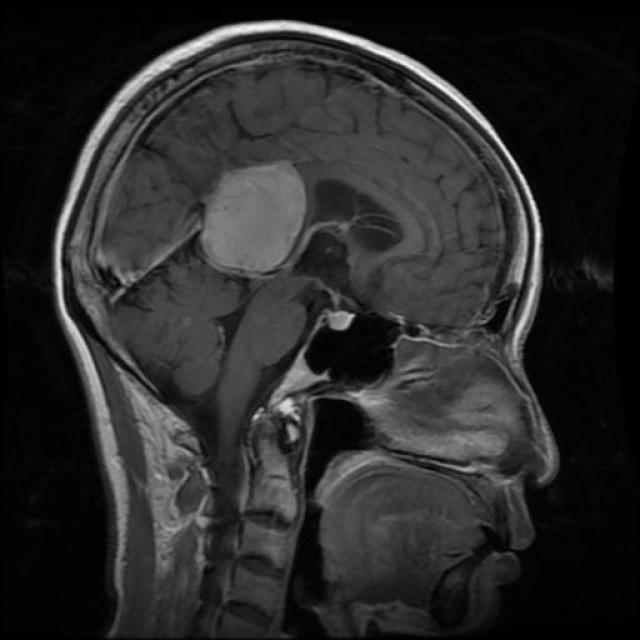meningioma: (199, 161, 309, 279)
